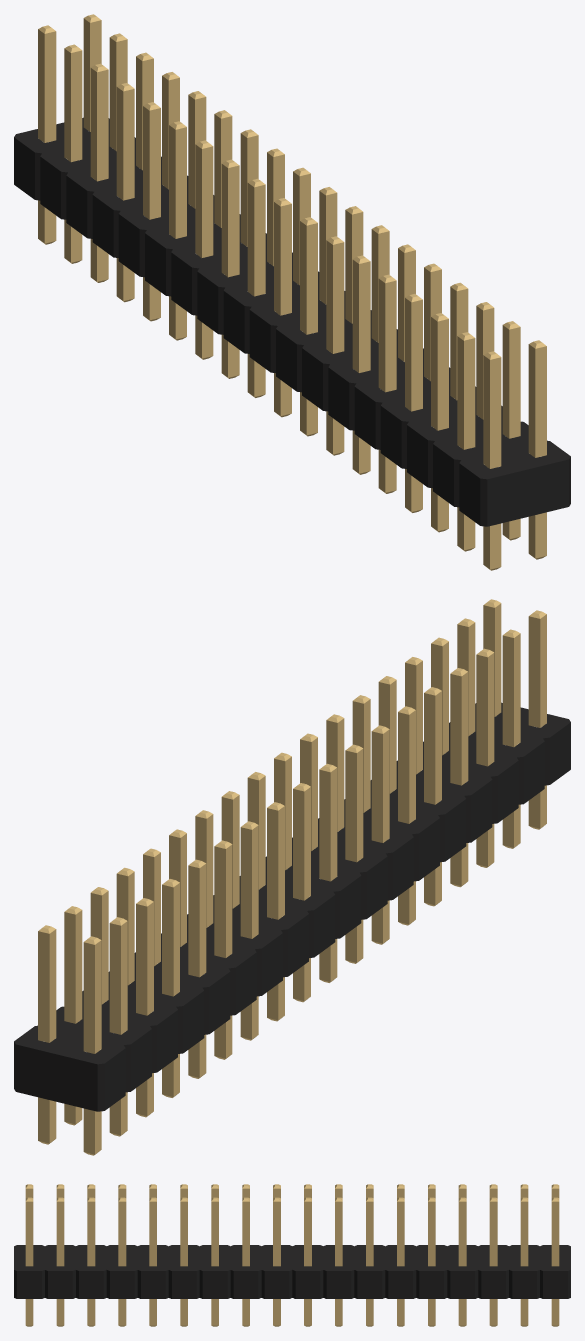
The model's file is kc-pinheader_2x18_p2.54mm_vertical.glb.
3 views of the same model, one above another, from view 1: azimuth 30°, elevation 25°; view 2: azimuth 150°, elevation 25°; view 3: azimuth 270°, elevation 25° (orthographic). The views are drawn at different scales.
Visible parts, largest first — view 1: 0.75_0.5_0.25_0.9, 0_0_0_0; view 2: 0.75_0.5_0.25_0.9, 0_0_0_0; view 3: 0_0_0_0, 0.75_0.5_0.25_0.9.
Part boxes in pixels (left/top/right/bottom): 0.75_0.5_0.25_0.9: left=38, top=14, right=546, bottom=570; 0_0_0_0: left=14, top=117, right=570, bottom=526; 0.75_0.5_0.25_0.9: left=38, top=599, right=546, bottom=1155; 0_0_0_0: left=14, top=702, right=570, bottom=1111; 0_0_0_0: left=14, top=1245, right=570, bottom=1298; 0.75_0.5_0.25_0.9: left=25, top=1184, right=559, bottom=1326.
Bounding box in the file's own units: 0.5079 × 1.15 × 4.57.
